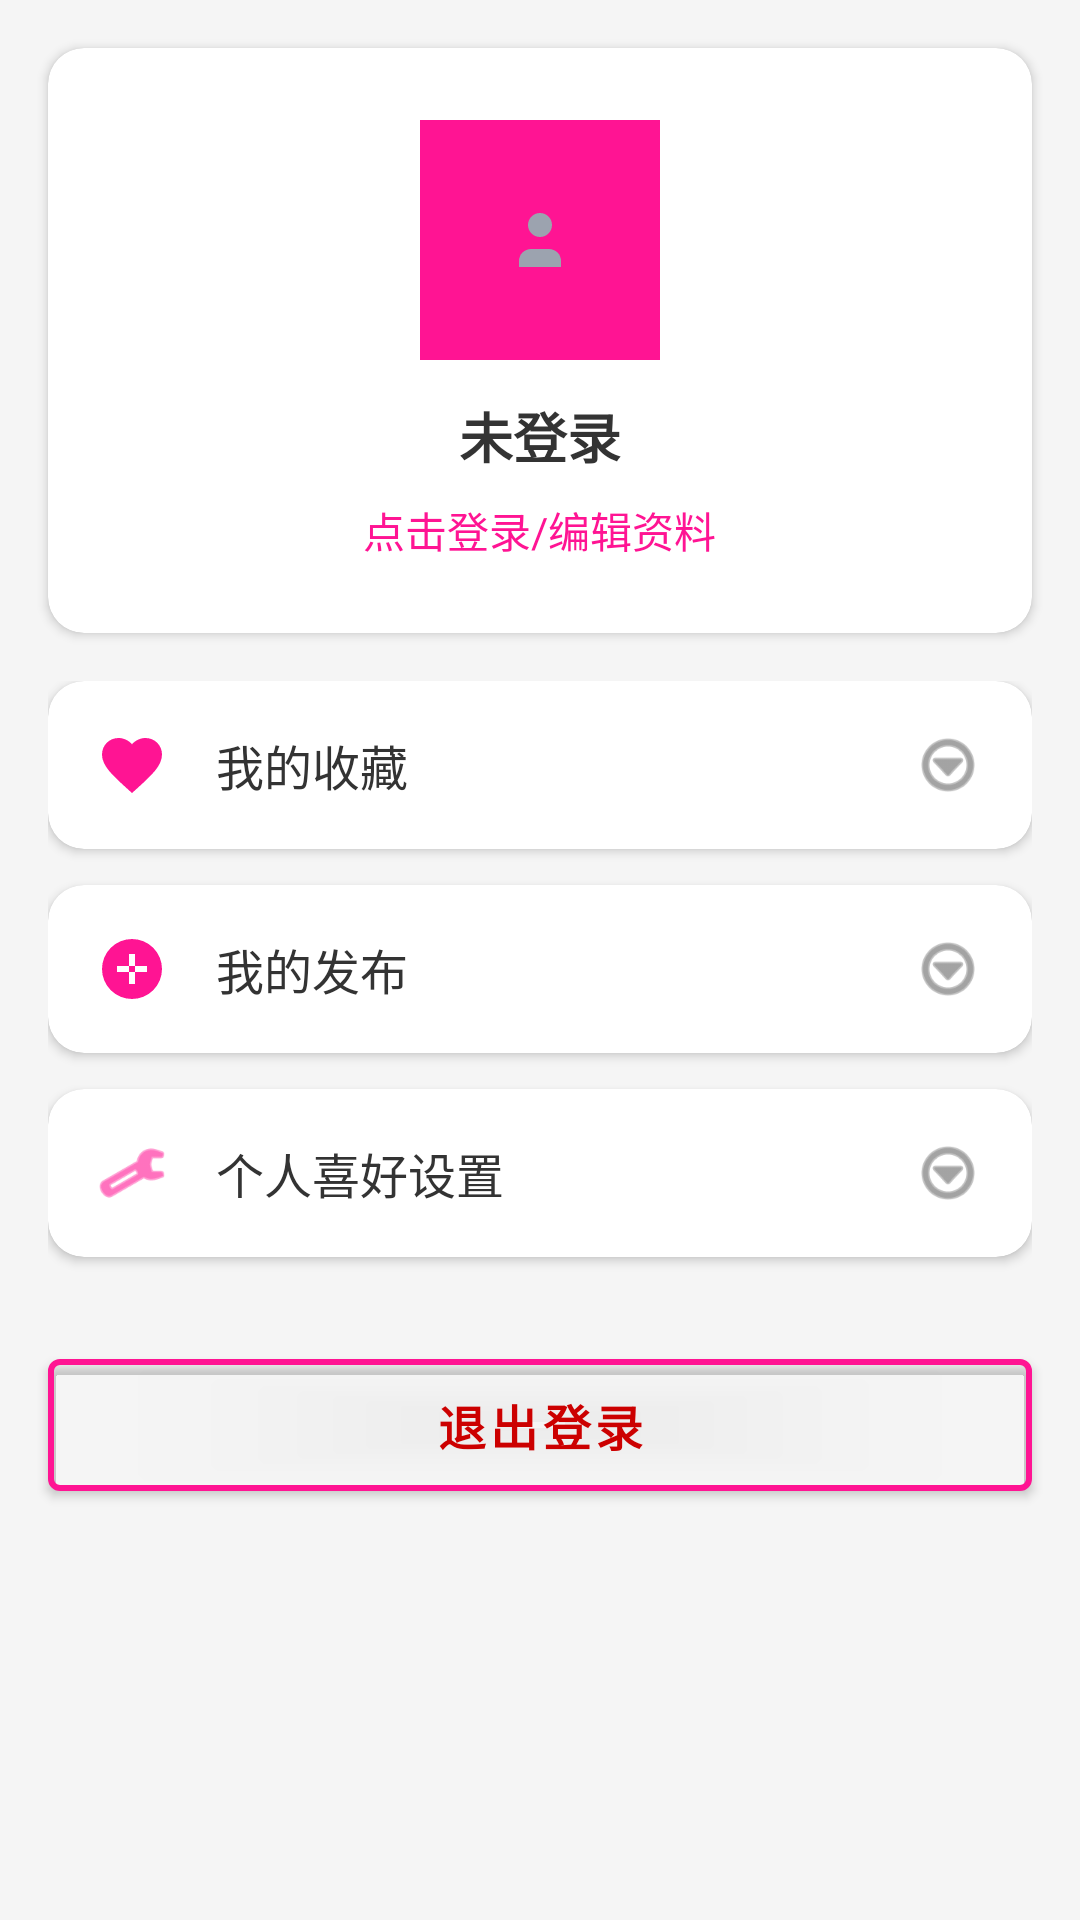

Locate icon controls on the screen. Image size 1080 x 1920, boxes as region(x1, y1, x2, y2).
more: region(921, 739, 975, 792), region(921, 943, 975, 996), region(921, 1147, 975, 1200)
preferences: region(99, 1148, 164, 1198)
publish add: region(102, 939, 162, 999)
